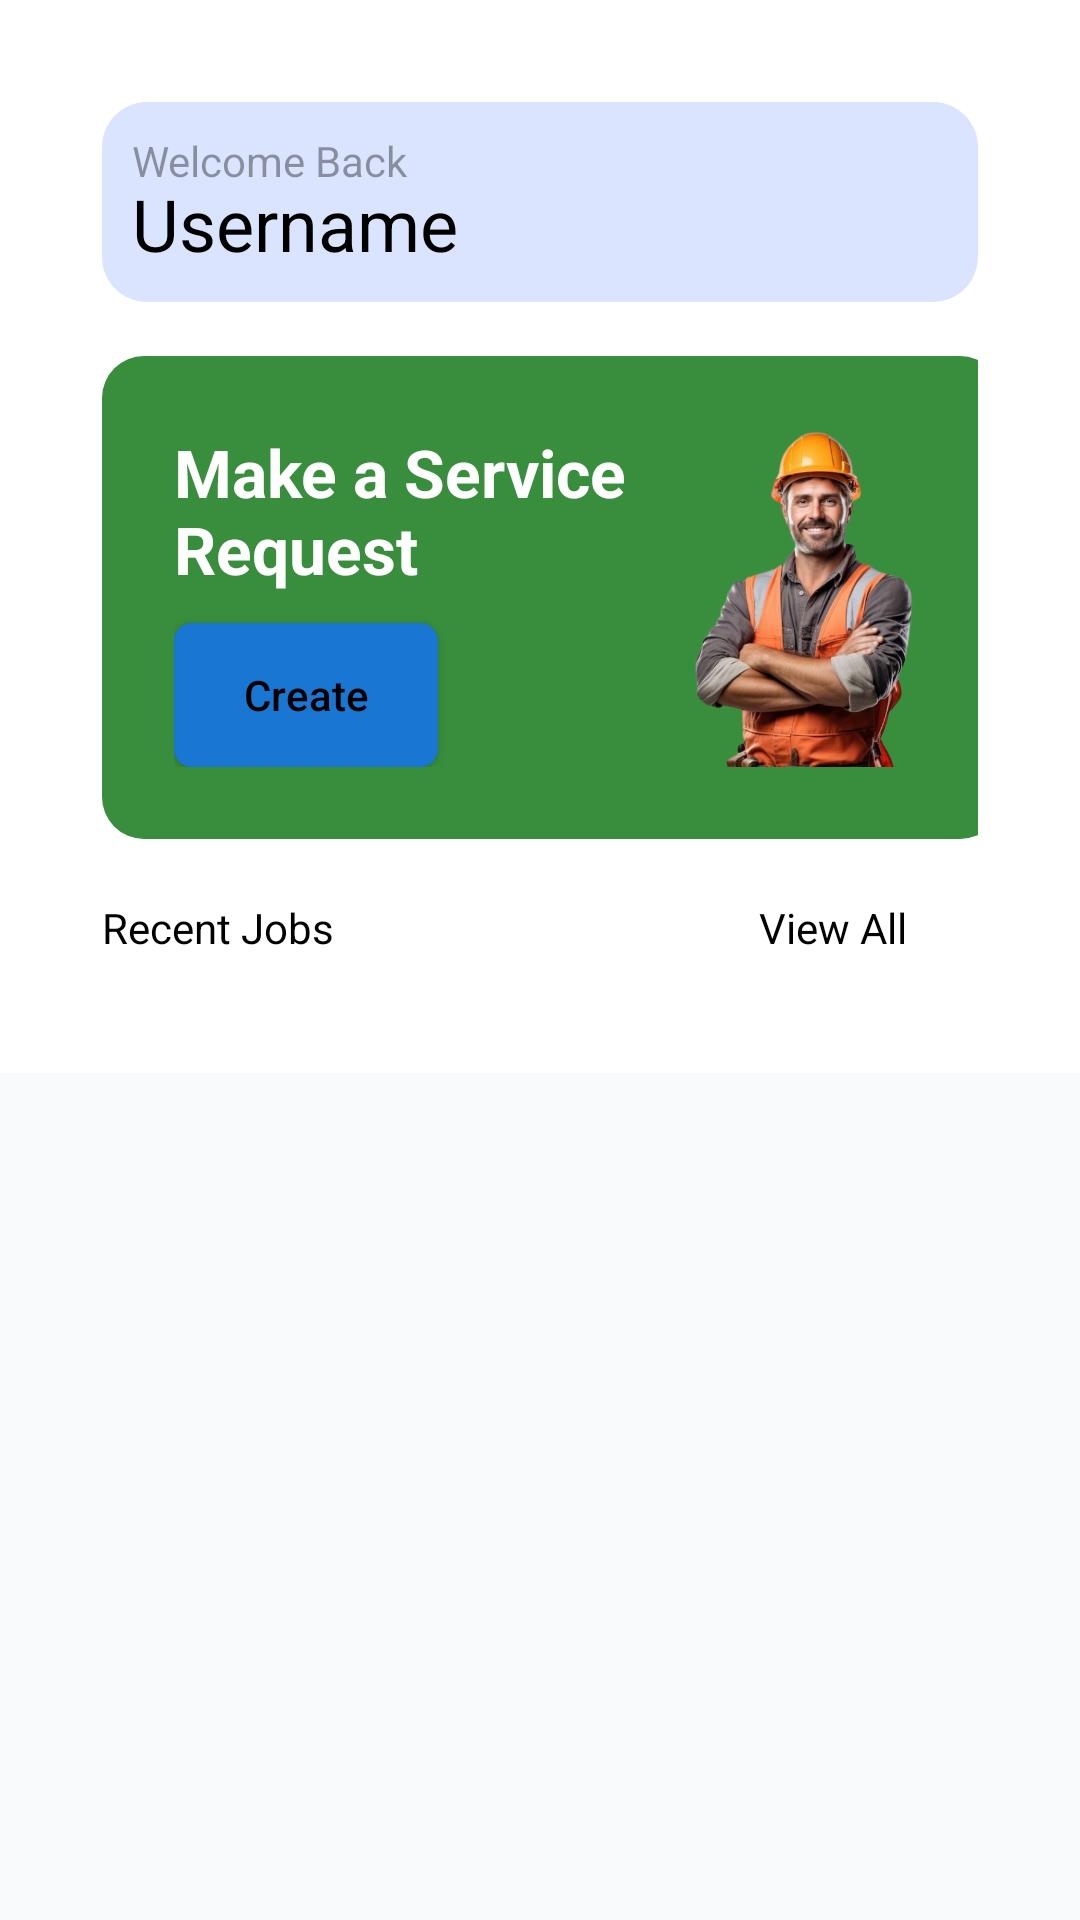

Named icons in this screenshot (1080w x 1920h) and their centers, (x,y):
worker home: (803,599)
